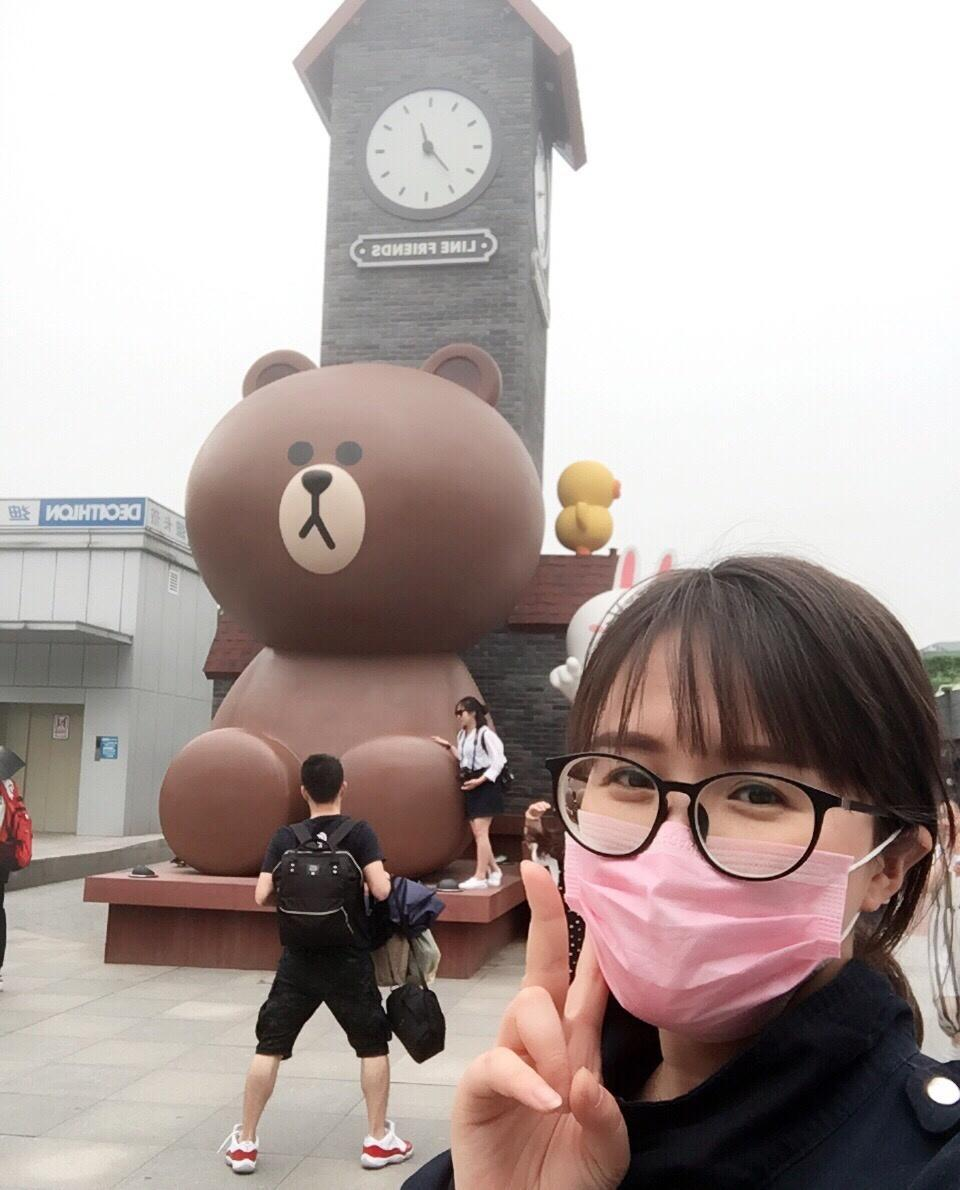NONE: (458, 709, 473, 729)
OK: (556, 715, 879, 1038)
